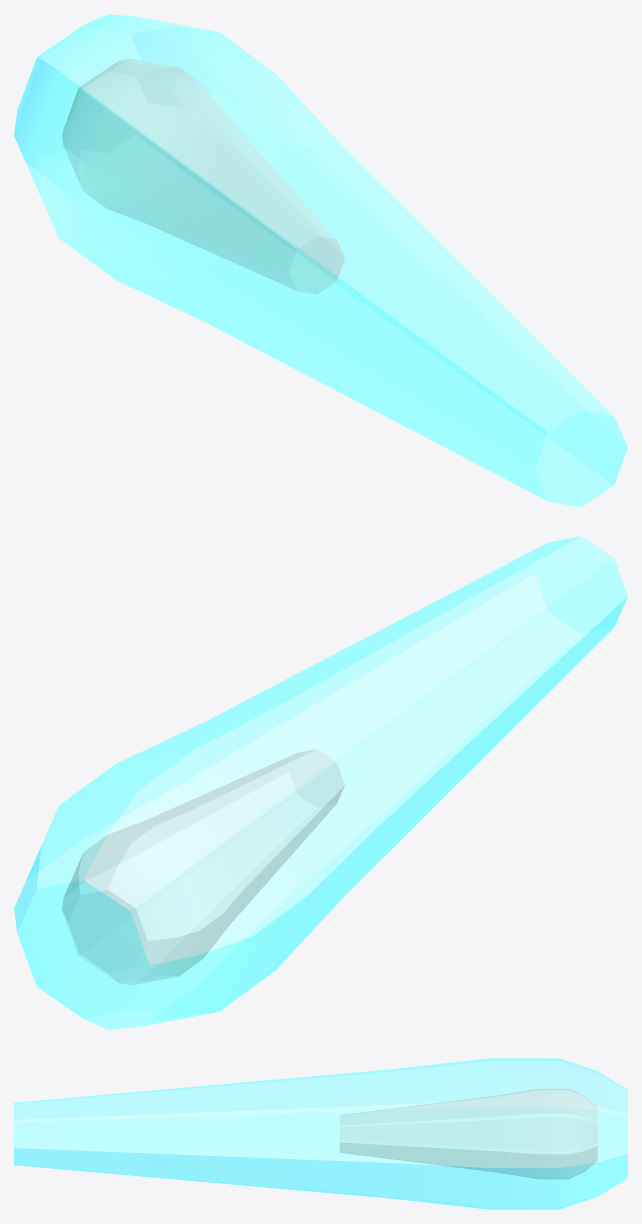
File: exhaustflame.fbx
3 views of the same model, one above another, from view 1: azimuth 30°, elevation 25°; view 2: azimuth 150°, elevation 25°; view 3: azimuth 270°, elevation 25° (orthographic). The views are drawn at different scales.
Visible parts, largest first — view 1: Cylinder.002; view 2: Cylinder.002; view 3: Cylinder.002.
Part boxes in pixels (x1=…): Cylinder.002: x1=14, y1=14, x2=627, y2=507; Cylinder.002: x1=14, y1=536, x2=627, y2=1029; Cylinder.002: x1=14, y1=1058, x2=627, y2=1209.
Bounding box in the file's own units: 15.93 × 15.93 × 60.68.
